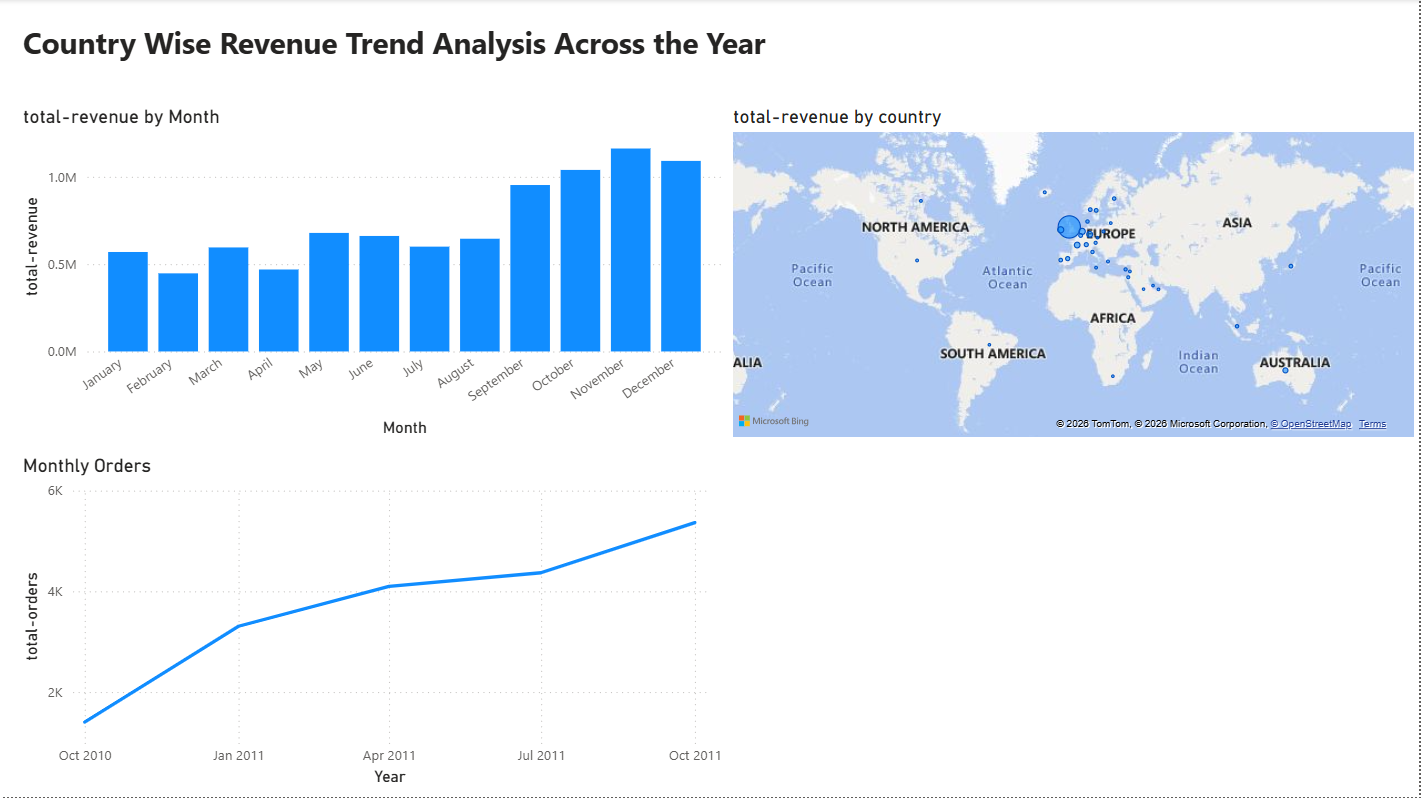

The page's visual inventory and layout, read from the dashboard file:
{"tool":"powerbi","page":{"name":"Revenue Trend","canvas":[1280,720],"ordinal":1},"visuals":[{"type":"textbox","box":[16,16,912,48],"z":0},{"type":"map","fields":{"Category":["public ecommerce.country"],"Size":["public ecommerce.total-revenue"]},"box":[656,96,624,304],"z":1000},{"type":"columnChart","fields":{"Category":["public ecommerce.invoicedate.Variation.Date Hierarchy.Month"],"Y":["public ecommerce.total-revenue"]},"box":[16,96,640,304],"z":2000},{"type":"lineChart","title":"Monthly Orders ","fields":{"Category":["public ecommerce.invoicedate.Variation.Date Hierarchy.Year","public ecommerce.invoicedate.Variation.Date Hierarchy.Quarter","public ecommerce.invoicedate.Variation.Date Hierarchy.Month","public ecommerce.invoicedate.Variation.Date Hierarchy.Day"],"Y":["public ecommerce.total-orders"]},"box":[16,410,640,304],"z":2001}]}

Visuals, with their boxes in screenshot pixels (x1, y1, x2, y2), scaled from the page's 1280x720 canvas onto the 1421x798 screenshot:
textbox: <region>18, 18, 1030, 71</region>
map - public ecommerce.country x public ecommerce.total-revenue: <region>728, 106, 1420, 443</region>
columnChart - public ecommerce.invoicedate.Variation.Date Hierarchy.Month x public ecommerce.total-revenue: <region>18, 106, 728, 443</region>
"Monthly Orders " lineChart: <region>18, 454, 728, 791</region>
